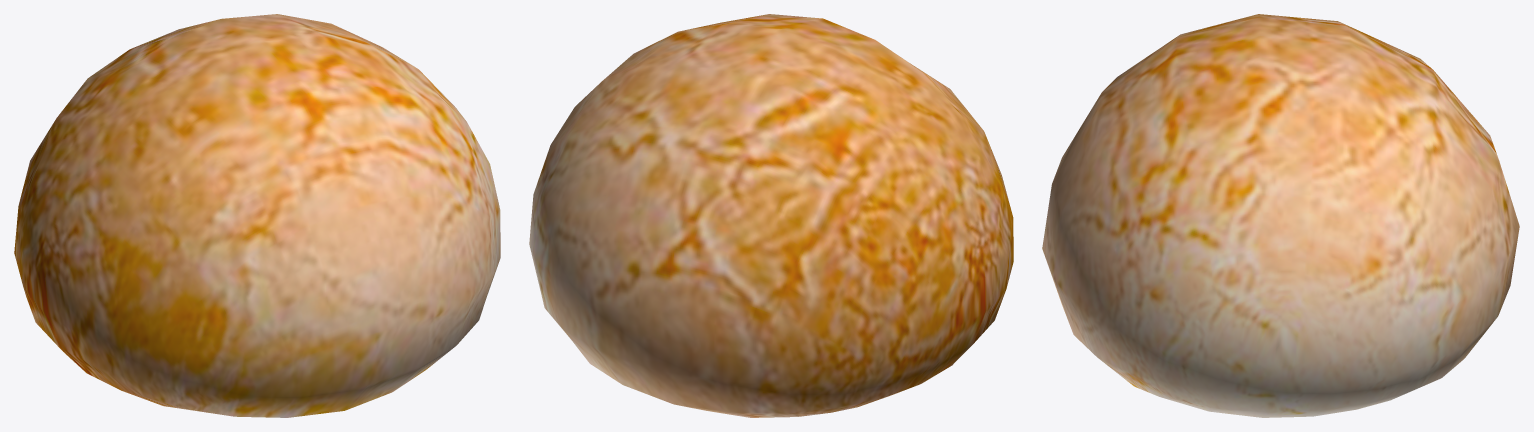
The model's file is Body.glb.
The picture shows the model from 3 angles, left to right: view 1: azimuth 30°, elevation 25°; view 2: azimuth 150°, elevation 25°; view 3: azimuth 270°, elevation 25°; orthographic projection.
Visible parts, largest first — view 1: Body; view 2: Body; view 3: Body.
Boxes of the visible parts, x1,y1,x2,y2 form: Body: [14, 14, 500, 417]; Body: [529, 14, 1013, 417]; Body: [1042, 14, 1519, 417].
Bounding box in the file's own units: 1.09 × 0.822 × 1.06.
1 material, 1 textured.
